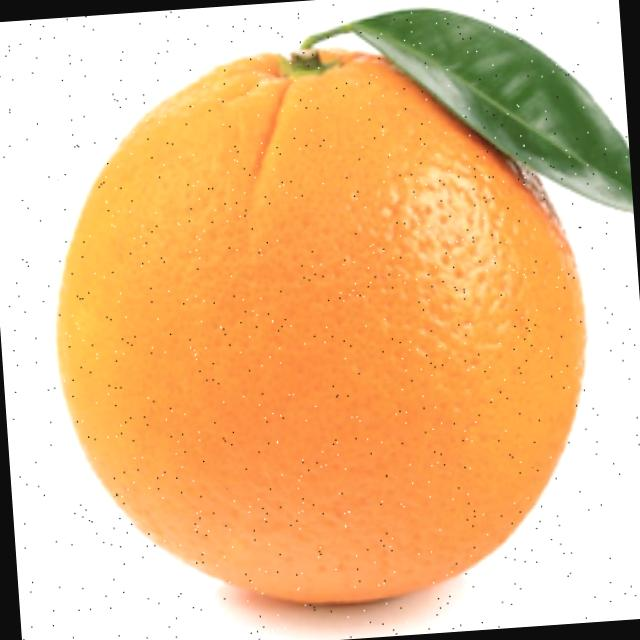orange: (47, 20, 608, 625)
